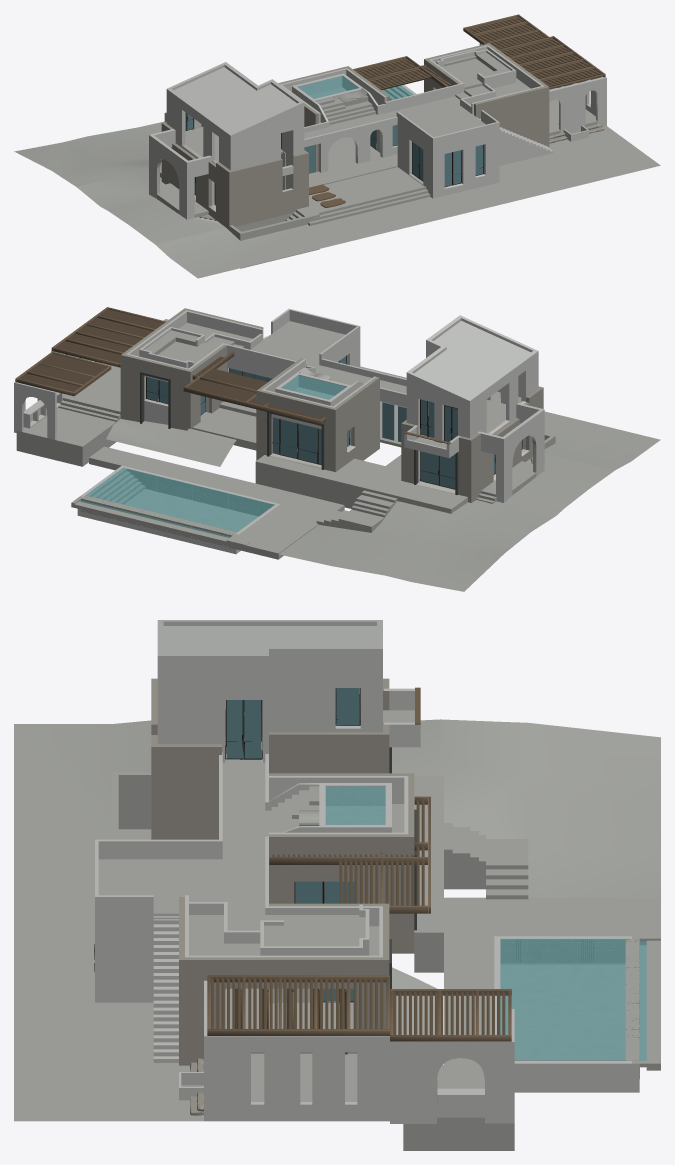
The model's file is tsoukalades-villa.glb.
The picture shows the model from 3 angles, top to bottom: view 1: azimuth 30°, elevation 25°; view 2: azimuth 150°, elevation 25°; view 3: azimuth 270°, elevation 25°; orthographic projection. The views are drawn at different scales.
Parts seen in each view (by area): view 1: part-0010, part-0000, part-0134, part-0172, part-0170, part-0242; view 2: part-0010, part-0000, part-0134, part-0172, part-0242, part-0170, part-0348, part-0168, part-0146; view 3: part-0010, part-0000, part-0134, part-0172, part-0242, part-0170, part-0168.
Part boxes in pixels (bbox=[...]): part-0010: bbox=[14, 52, 660, 278]; part-0000: bbox=[149, 43, 606, 219]; part-0134: bbox=[161, 43, 604, 228]; part-0172: bbox=[164, 14, 605, 207]; part-0170: bbox=[185, 112, 483, 205]; part-0242: bbox=[298, 76, 413, 99]; part-0010: bbox=[16, 319, 660, 591]; part-0000: bbox=[14, 308, 544, 554]; part-0134: bbox=[120, 308, 543, 502]; part-0172: bbox=[15, 307, 450, 444]; part-0242: bbox=[79, 375, 346, 537]; part-0170: bbox=[147, 356, 522, 488]; part-0348: bbox=[140, 371, 458, 495]; part-0168: bbox=[146, 355, 522, 489]; part-0146: bbox=[144, 399, 529, 493]; part-0010: bbox=[14, 710, 660, 1150]; part-0000: bbox=[95, 620, 639, 1123]; part-0134: bbox=[151, 678, 414, 1115]; part-0172: bbox=[207, 687, 511, 1054]; part-0242: bbox=[325, 786, 646, 1060]; part-0170: bbox=[226, 688, 359, 1001]; part-0168: bbox=[225, 688, 360, 1002].
Size of the model in its own units: 37.51 by 10.91 by 25.81.
